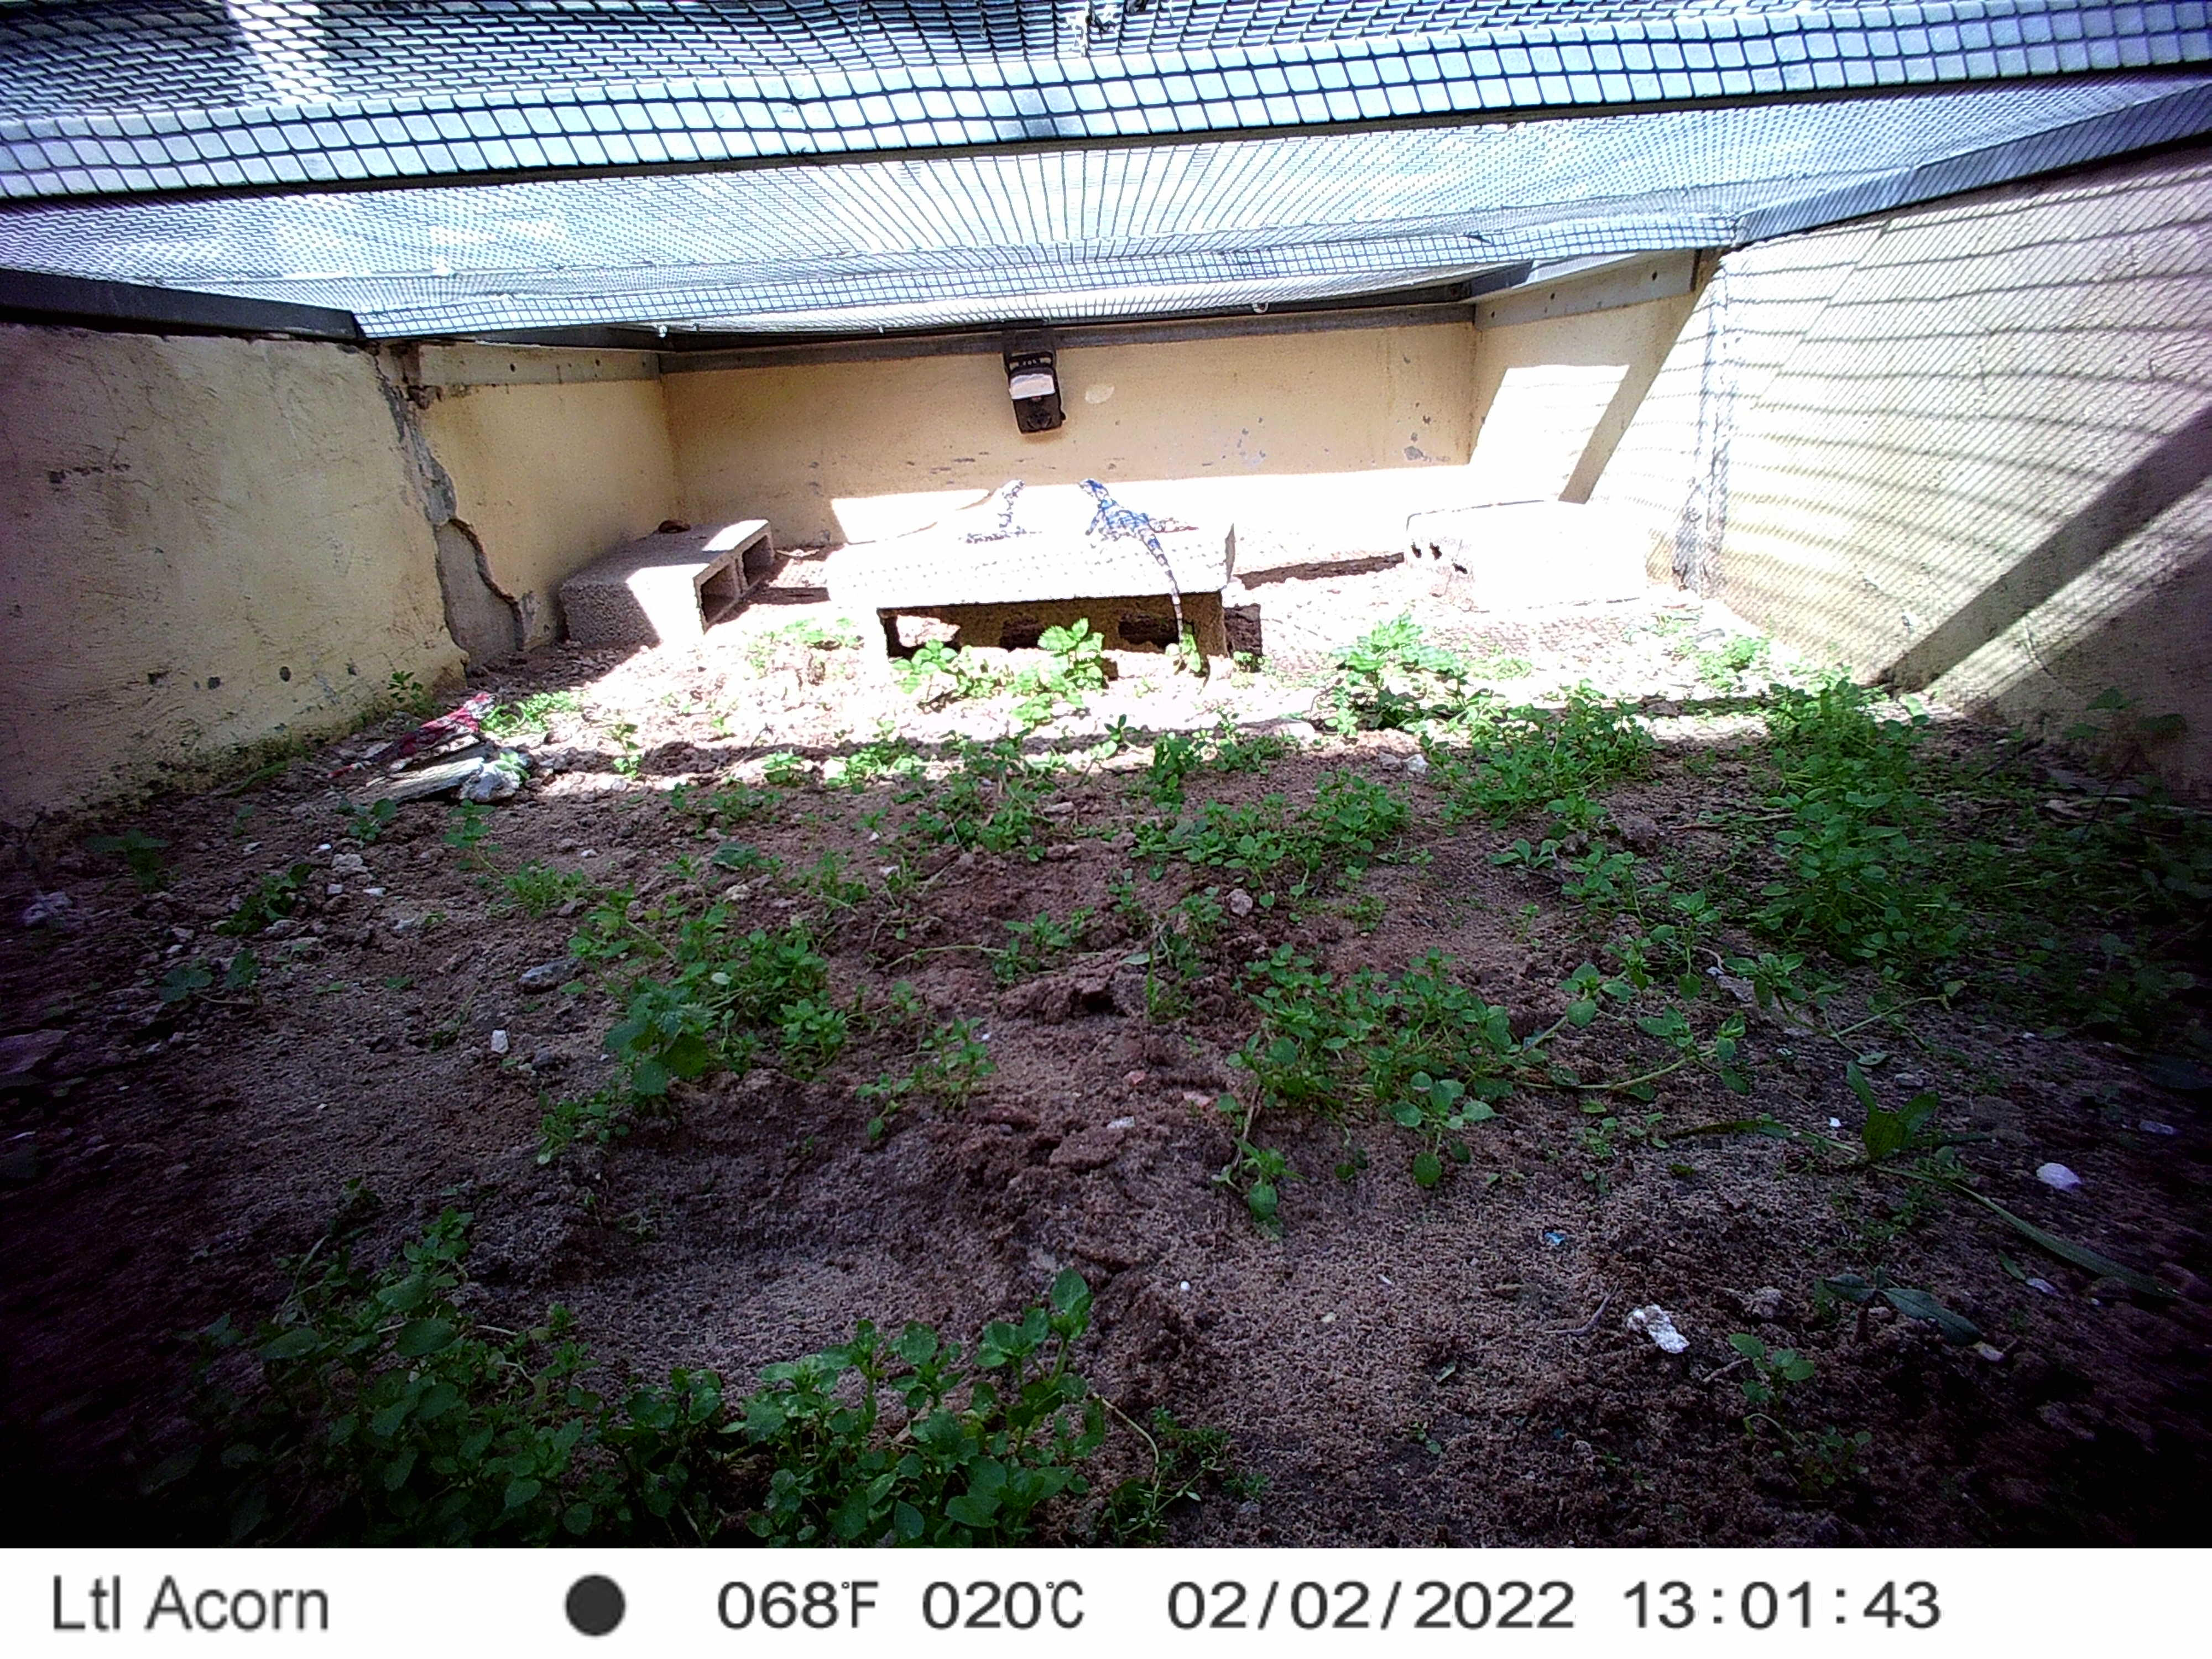lizard: (1073, 472, 1209, 648), (319, 688, 496, 786), (921, 479, 1029, 554)
